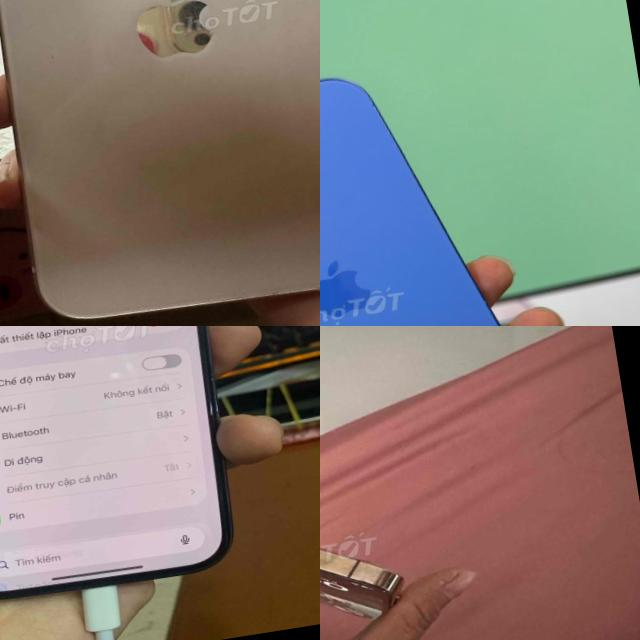gen_12_13: (0, 0, 320, 326), (320, 486, 426, 640)
gen_14: (0, 326, 256, 614)
gen_16: (320, 79, 500, 326)
